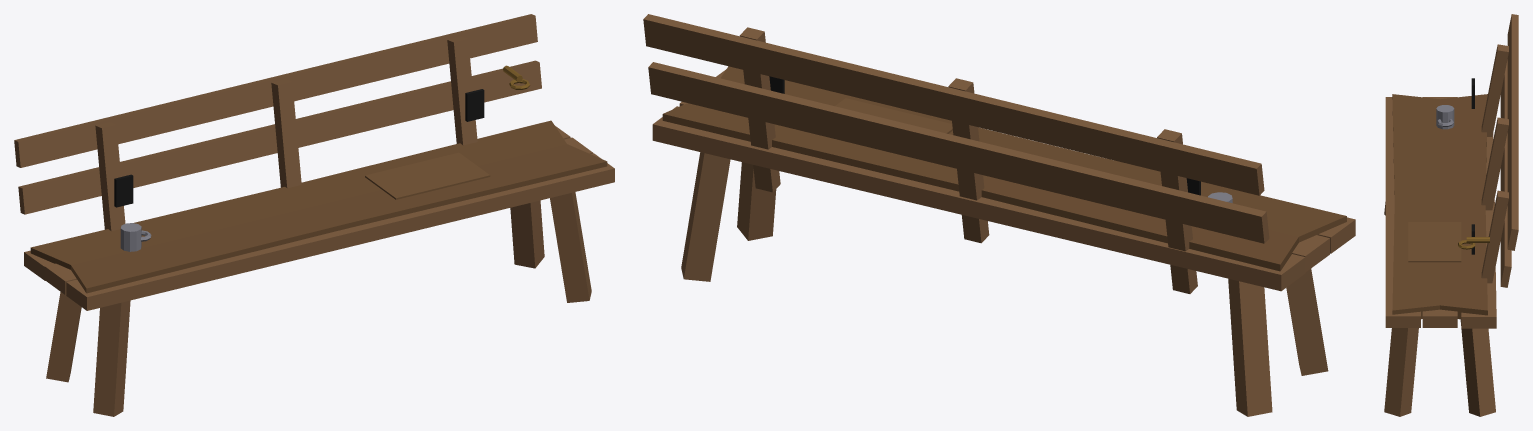
File: SM_Bench_TavernSettle_02.glb
3 renders of one model, left to right at view 1: azimuth 30°, elevation 25°; view 2: azimuth 150°, elevation 25°; view 3: azimuth 270°, elevation 25°, orthographic. The views are drawn at different scales.
Parts seen in each view (by area): view 1: SM_Bench_TavernSettle_02_Cushion, SM_Bench_TavernSettle_02_BackRail1, SM_Bench_TavernSettle_02_BackRail0, SM_Bench_TavernSettle_02_SeatPlank0, SM_Bench_TavernSettle_02_LegLF, SM_Bench_TavernSettle_02_CushionPatch, SM_Bench_TavernSettle_02_LegRF, SM_Bench_TavernSettle_02_BackPost1, SM_Bench_TavernSettle_02_BackPost0, SM_Bench_TavernSettle_02_BackPost2, SM_Bench_TavernSettle_02_LegLB, SM_Bench_TavernSettle_02_LegRB (+4 smaller); view 2: SM_Bench_TavernSettle_02_BackRail0, SM_Bench_TavernSettle_02_BackRail1, SM_Bench_TavernSettle_02_Cushion, SM_Bench_TavernSettle_02_SeatPlank2, SM_Bench_TavernSettle_02_LegLB, SM_Bench_TavernSettle_02_LegRB, SM_Bench_TavernSettle_02_LegLF, SM_Bench_TavernSettle_02_LegRF, SM_Bench_TavernSettle_02_BackPost0, SM_Bench_TavernSettle_02_BackPost1, SM_Bench_TavernSettle_02_BackPost2, SM_Bench_TavernSettle_02_CushionPatch (+2 smaller); view 3: SM_Bench_TavernSettle_02_Cushion, SM_Bench_TavernSettle_02_BackRail1, SM_Bench_TavernSettle_02_SeatPlank0, SM_Bench_TavernSettle_02_LegRB, SM_Bench_TavernSettle_02_LegRF, SM_Bench_TavernSettle_02_CushionPatch, SM_Bench_TavernSettle_02_BackRail0, SM_Bench_TavernSettle_02_SeatPlank2, SM_Bench_TavernSettle_02_BackPost1, SM_Bench_TavernSettle_02_BackPost0, SM_Bench_TavernSettle_02_BackPost2, SM_Bench_TavernSettle_02_SeatPlank1 (+2 smaller).
Boxes of the visible parts, bbox=[...] form: SM_Bench_TavernSettle_02_Cushion: bbox=[30, 120, 607, 293]; SM_Bench_TavernSettle_02_BackRail1: bbox=[14, 14, 537, 167]; SM_Bench_TavernSettle_02_BackRail0: bbox=[18, 60, 541, 214]; SM_Bench_TavernSettle_02_SeatPlank0: bbox=[66, 153, 614, 310]; SM_Bench_TavernSettle_02_LegLF: bbox=[93, 300, 130, 416]; SM_Bench_TavernSettle_02_CushionPatch: bbox=[365, 152, 490, 199]; SM_Bench_TavernSettle_02_LegRF: bbox=[550, 192, 591, 302]; SM_Bench_TavernSettle_02_BackPost1: bbox=[271, 79, 301, 188]; SM_Bench_TavernSettle_02_BackPost0: bbox=[95, 122, 125, 231]; SM_Bench_TavernSettle_02_BackPost2: bbox=[447, 36, 477, 145]; SM_Bench_TavernSettle_02_LegLB: bbox=[46, 292, 81, 382]; SM_Bench_TavernSettle_02_LegRB: bbox=[510, 200, 544, 268]; SM_Bench_TavernSettle_02_BackRail0: bbox=[648, 62, 1269, 243]; SM_Bench_TavernSettle_02_BackRail1: bbox=[643, 14, 1264, 195]; SM_Bench_TavernSettle_02_Cushion: bbox=[662, 66, 1346, 271]; SM_Bench_TavernSettle_02_SeatPlank2: bbox=[652, 106, 1305, 291]; SM_Bench_TavernSettle_02_LegLB: bbox=[1228, 278, 1272, 416]; SM_Bench_TavernSettle_02_LegRB: bbox=[681, 152, 730, 281]; SM_Bench_TavernSettle_02_LegLF: bbox=[1286, 268, 1328, 375]; SM_Bench_TavernSettle_02_LegRF: bbox=[737, 162, 776, 240]; SM_Bench_TavernSettle_02_BackPost0: bbox=[1157, 129, 1197, 293]; SM_Bench_TavernSettle_02_BackPost1: bbox=[948, 78, 989, 243]; SM_Bench_TavernSettle_02_BackPost2: bbox=[739, 27, 780, 192]; SM_Bench_TavernSettle_02_CushionPatch: bbox=[835, 98, 952, 133]; SM_Bench_TavernSettle_02_Cushion: bbox=[1392, 94, 1487, 319]; SM_Bench_TavernSettle_02_BackRail1: bbox=[1507, 14, 1518, 250]; SM_Bench_TavernSettle_02_SeatPlank0: bbox=[1385, 97, 1420, 327]; SM_Bench_TavernSettle_02_LegRB: bbox=[1460, 319, 1495, 416]; SM_Bench_TavernSettle_02_LegRF: bbox=[1384, 328, 1418, 416]; SM_Bench_TavernSettle_02_CushionPatch: bbox=[1408, 222, 1461, 262]; SM_Bench_TavernSettle_02_BackRail0: bbox=[1500, 59, 1511, 287]; SM_Bench_TavernSettle_02_SeatPlank2: bbox=[1461, 133, 1496, 328]; SM_Bench_TavernSettle_02_BackPost1: bbox=[1481, 117, 1508, 210]; SM_Bench_TavernSettle_02_BackPost0: bbox=[1481, 44, 1508, 136]; SM_Bench_TavernSettle_02_BackPost2: bbox=[1481, 190, 1508, 283]; SM_Bench_TavernSettle_02_SeatPlank1: bbox=[1422, 97, 1457, 327].
Bounding box in the file's own units: 2 × 0.8316 × 0.5188.
